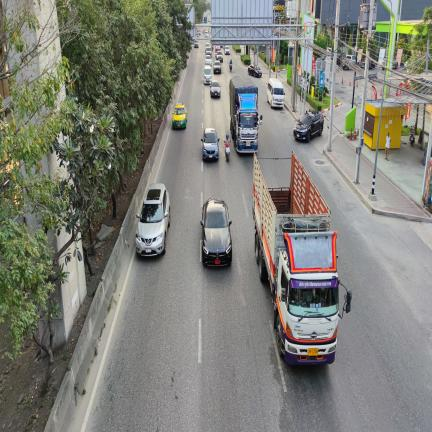car: (136, 184, 170, 256), (201, 198, 232, 266), (293, 110, 324, 142), (201, 127, 219, 159), (247, 65, 262, 77), (210, 80, 220, 97), (213, 60, 221, 74), (215, 50, 223, 63), (205, 54, 212, 65), (205, 47, 212, 58), (224, 46, 230, 55), (205, 42, 210, 51), (194, 40, 199, 48), (215, 45, 220, 52), (211, 45, 214, 51)
human: (385, 133, 390, 161), (311, 288, 320, 303)
motorbike: (409, 127, 415, 147), (225, 141, 230, 159), (409, 132, 415, 146), (229, 63, 232, 72)
taxi: (172, 103, 187, 128)
truck: (253, 152, 342, 365), (229, 76, 260, 152), (342, 291, 352, 313), (342, 312, 343, 316)
van: (267, 78, 285, 108), (203, 65, 212, 84)
